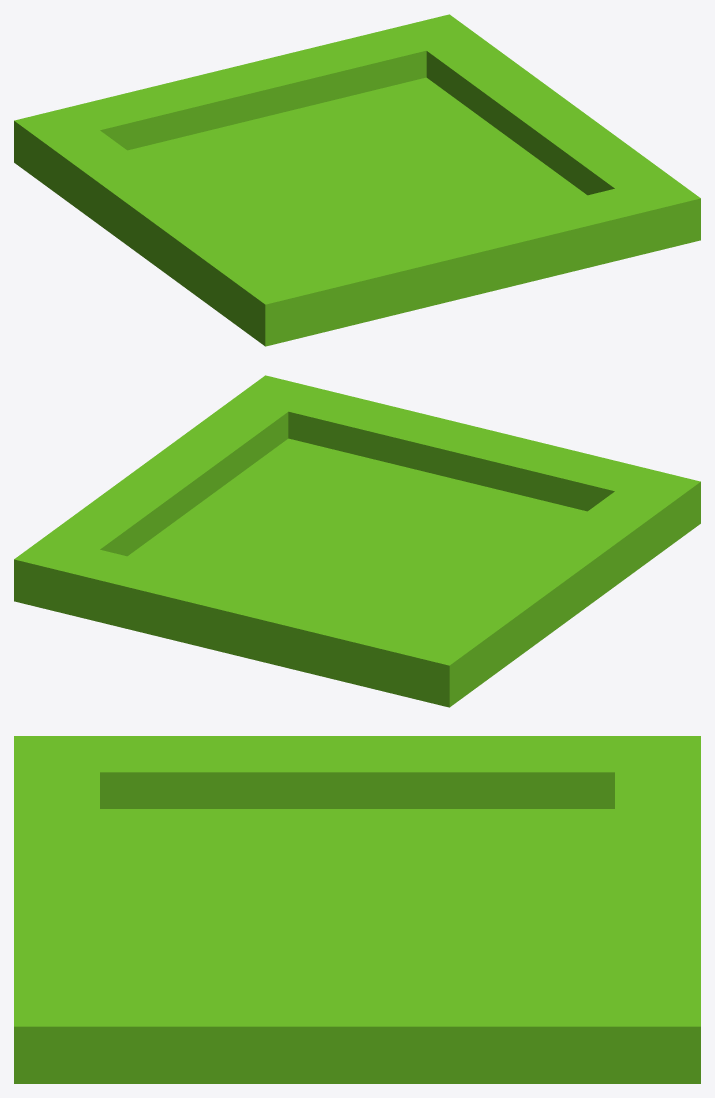
File: plato.fbx
The picture shows the model from 3 angles, top to bottom: view 1: azimuth 30°, elevation 25°; view 2: azimuth 150°, elevation 25°; view 3: azimuth 270°, elevation 25°; orthographic projection. The views are drawn at different scales.
Visible parts, largest first — view 1: Sphere; view 2: Sphere; view 3: Sphere.
Boxes of the visible parts, box(x1,y1,x2,y2) form: Sphere: box(14, 14, 700, 346); Sphere: box(14, 375, 700, 707); Sphere: box(14, 736, 700, 1083).
Size of the model in its own units: 200 by 18.42 by 200.
